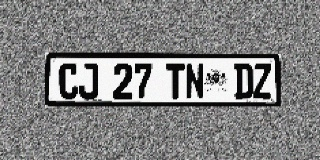2: (114, 63, 133, 99)
7: (133, 63, 152, 99)
C: (59, 63, 78, 99)
D: (234, 63, 253, 99)
J: (79, 63, 98, 99)
N: (185, 63, 204, 99)
T: (166, 63, 185, 99)
Z: (253, 63, 272, 99)
